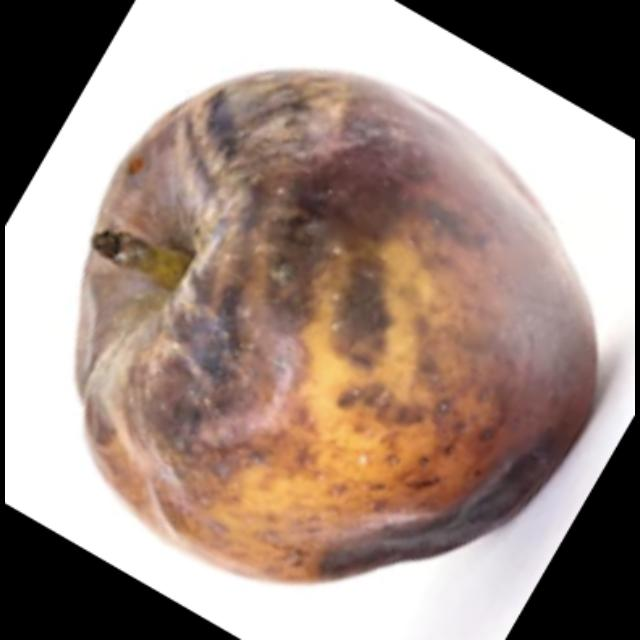Apel Tidak Segar: (74, 67, 602, 588)
